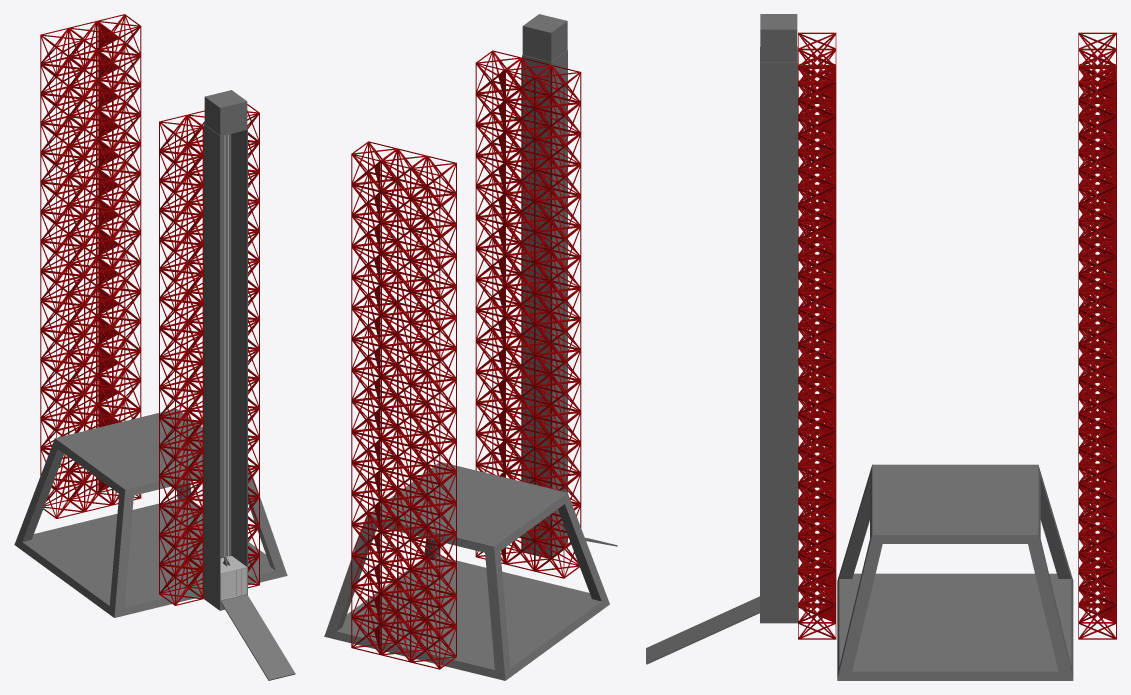
The model's file is Lanzadera.fbx.
The picture shows the model from 3 angles, left to right: view 1: azimuth 30°, elevation 25°; view 2: azimuth 150°, elevation 25°; view 3: azimuth 270°, elevation 25°; orthographic projection. The views are drawn at different scales.
Parts seen in each view (by area): view 1: Cube.001, Cylinder.006, Cube.002, Cube, Cube.003, Cube.018, Cylinder.004; view 2: Cube.001, Cube, Cylinder.006, Cube.002, Cube.018; view 3: Cylinder.006, Cube, Cube.001, Cube.002, Cube.003, Cube.018.
Boxes of the visible parts, x1=… form: Cube.001: x1=40, y1=14, x2=141, y2=518; Cylinder.006: x1=14, y1=408, x2=287, y2=617; Cube.002: x1=204, y1=124, x2=247, y2=610; Cube: x1=159, y1=104, x2=259, y2=605; Cube.003: x1=220, y1=594, x2=295, y2=680; Cube.018: x1=204, y1=90, x2=247, y2=136; Cylinder.004: x1=224, y1=134, x2=228, y2=563; Cube.001: x1=351, y1=141, x2=456, y2=669; Cube: x1=475, y1=50, x2=581, y2=578; Cylinder.006: x1=324, y1=462, x2=609, y2=680; Cube.002: x1=522, y1=50, x2=567, y2=556; Cube.018: x1=522, y1=14, x2=567, y2=61; Cylinder.006: x1=837, y1=464, x2=1073, y2=680; Cube: x1=798, y1=32, x2=836, y2=639; Cube.001: x1=1078, y1=32, x2=1116, y2=639; Cube.002: x1=760, y1=46, x2=797, y2=623; Cube.003: x1=646, y1=596, x2=759, y2=664; Cube.018: x1=760, y1=14, x2=797, y2=62.
Size of the model in its own units: 81.15 by 241 by 162.
